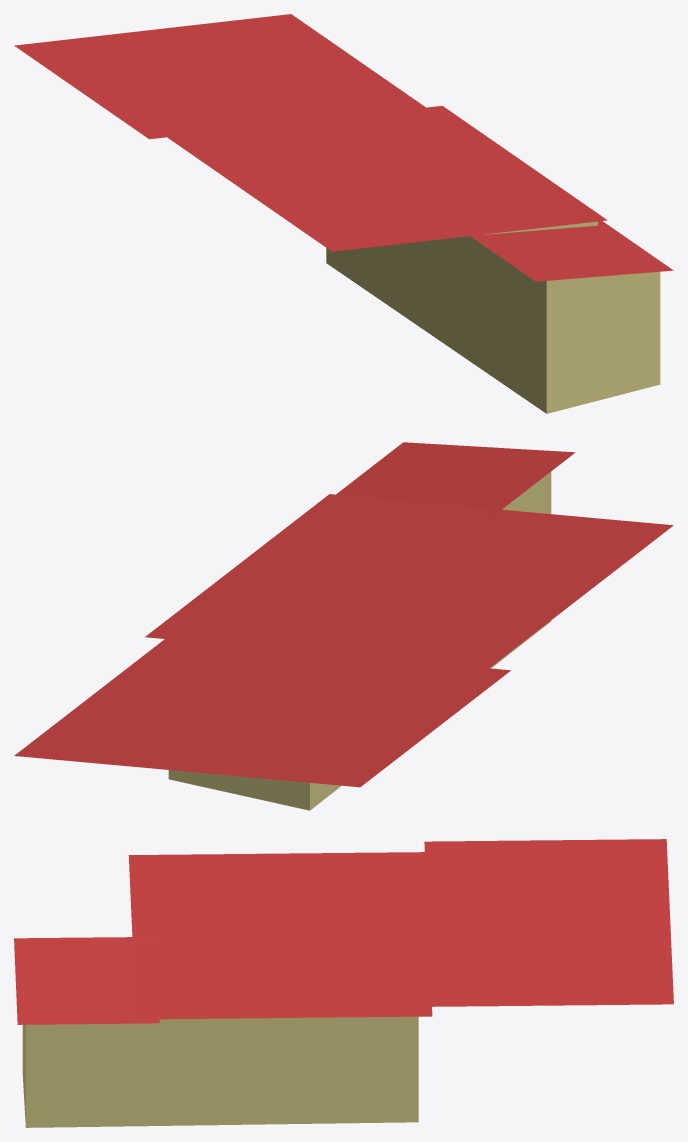
The picture shows the model from 3 angles, top to bottom: view 1: azimuth 30°, elevation 25°; view 2: azimuth 150°, elevation 25°; view 3: azimuth 270°, elevation 25°; orthographic projection. The views are drawn at different scales.
Size of the model in its own units: 16.6 by 32.56 by 8.21.
